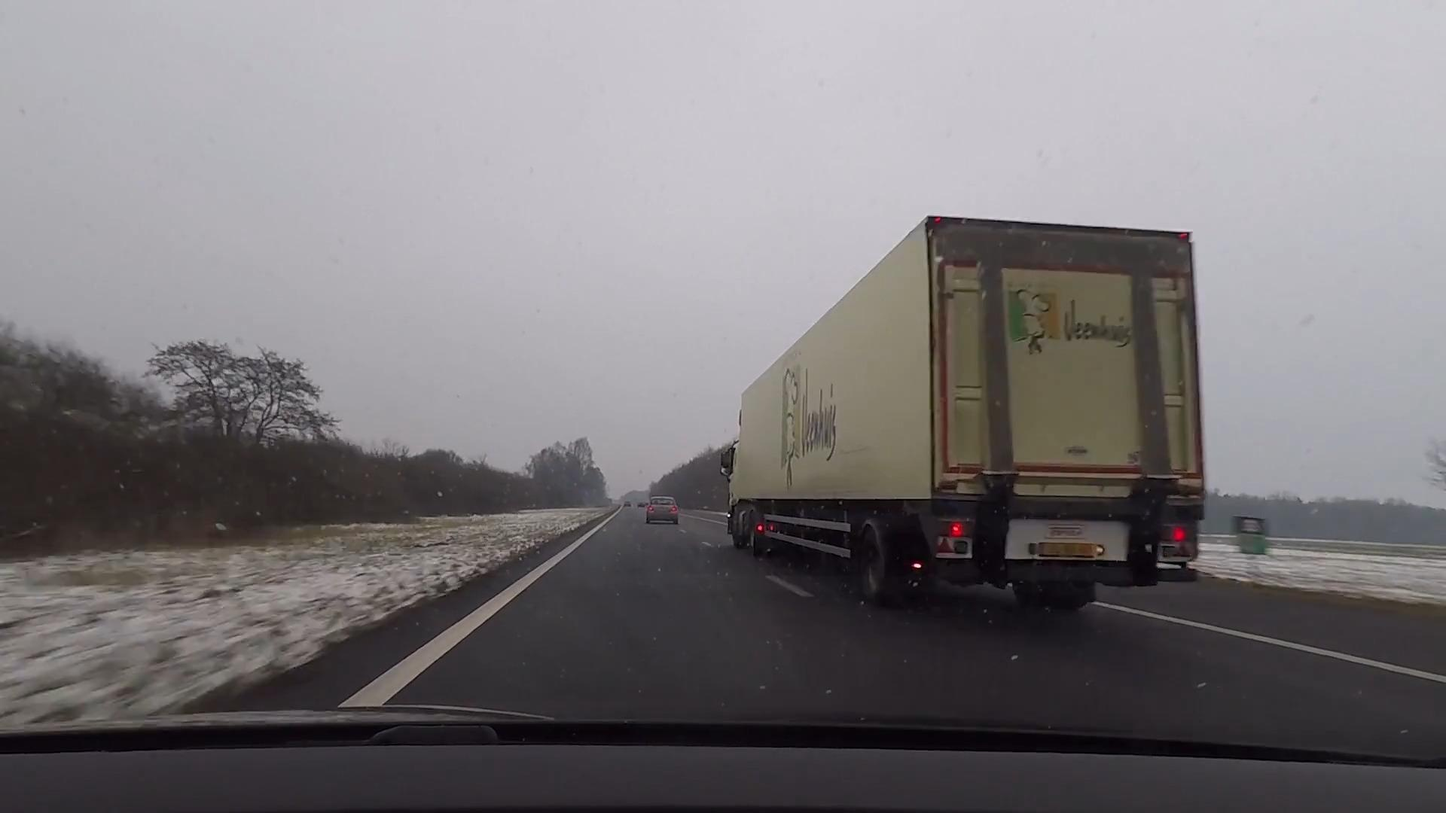Ice: (334, 502, 1446, 744)
Snow: (0, 507, 612, 726), (1196, 534, 1446, 604)
